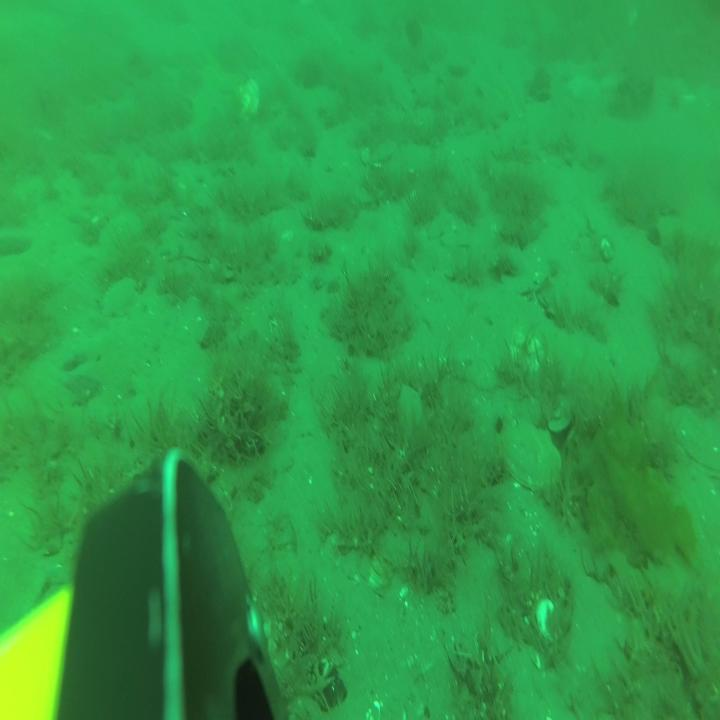scallop: (506, 417, 560, 490), (673, 405, 720, 478), (384, 383, 422, 450), (507, 329, 544, 379), (103, 278, 138, 315), (235, 76, 259, 122)
